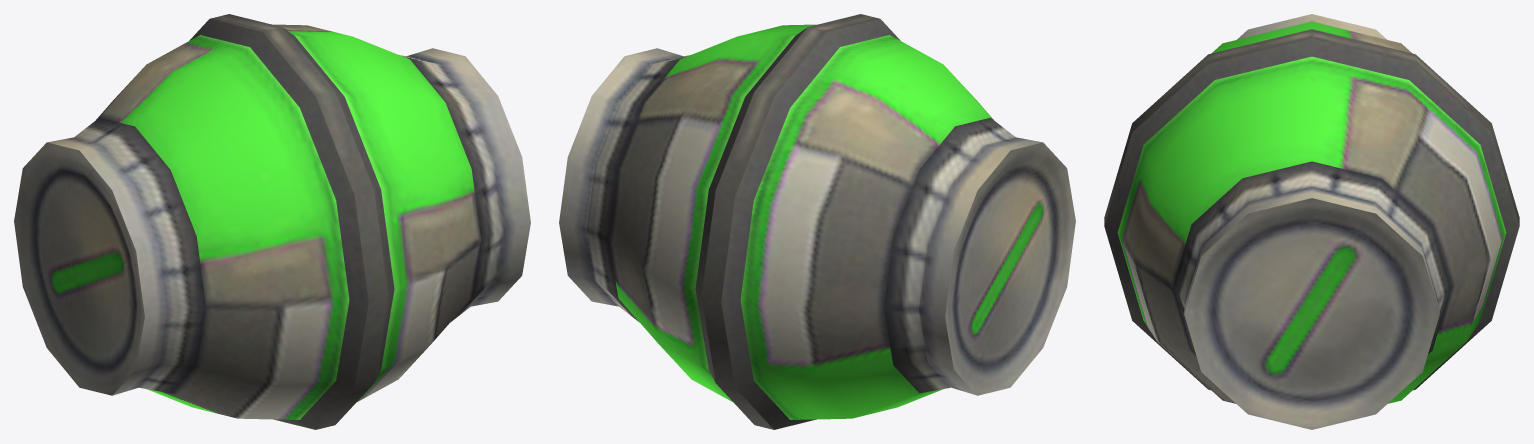
The model's file is MenkMack_Mine_Projectile_Green.obj.
3 renders of one model, left to right at view 1: azimuth 30°, elevation 25°; view 2: azimuth 150°, elevation 25°; view 3: azimuth 270°, elevation 25°, orthographic. The views are drawn at different scales.
Visible parts, largest first — view 1: projectiles_MenkMackMineGreen; view 2: projectiles_MenkMackMineGreen; view 3: projectiles_MenkMackMineGreen.
Boxes of the visible parts, <box> form: projectiles_MenkMackMineGreen: <box>14,14,530,429</box>; projectiles_MenkMackMineGreen: <box>559,14,1075,429</box>; projectiles_MenkMackMineGreen: <box>1104,14,1519,429</box>.
Size of the model in its own units: 0.757 by 0.7215 by 0.7215.
1 material, 1 textured.
